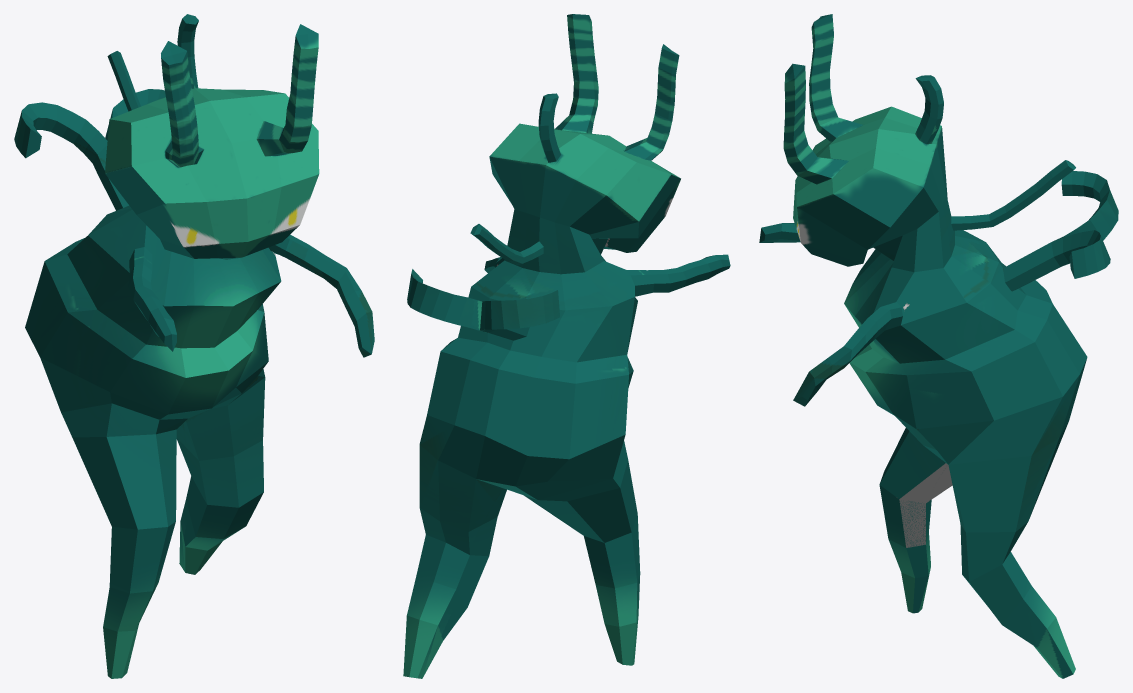
Rendered from monstruo1_caminar_90.obj.
3 renders of one model, left to right at view 1: azimuth 30°, elevation 25°; view 2: azimuth 150°, elevation 25°; view 3: azimuth 270°, elevation 25°, orthographic. The views are drawn at different scales.
Parts seen in each view (by area): view 1: Monstruo_basico; view 2: Monstruo_basico; view 3: Monstruo_basico.
Part boxes in pixels (bbox=[...]): Monstruo_basico: bbox=[14, 14, 374, 678]; Monstruo_basico: bbox=[403, 14, 730, 678]; Monstruo_basico: bbox=[759, 14, 1118, 678].
Bounding box in the file's own units: 0.3712 × 0.9962 × 0.5415.
